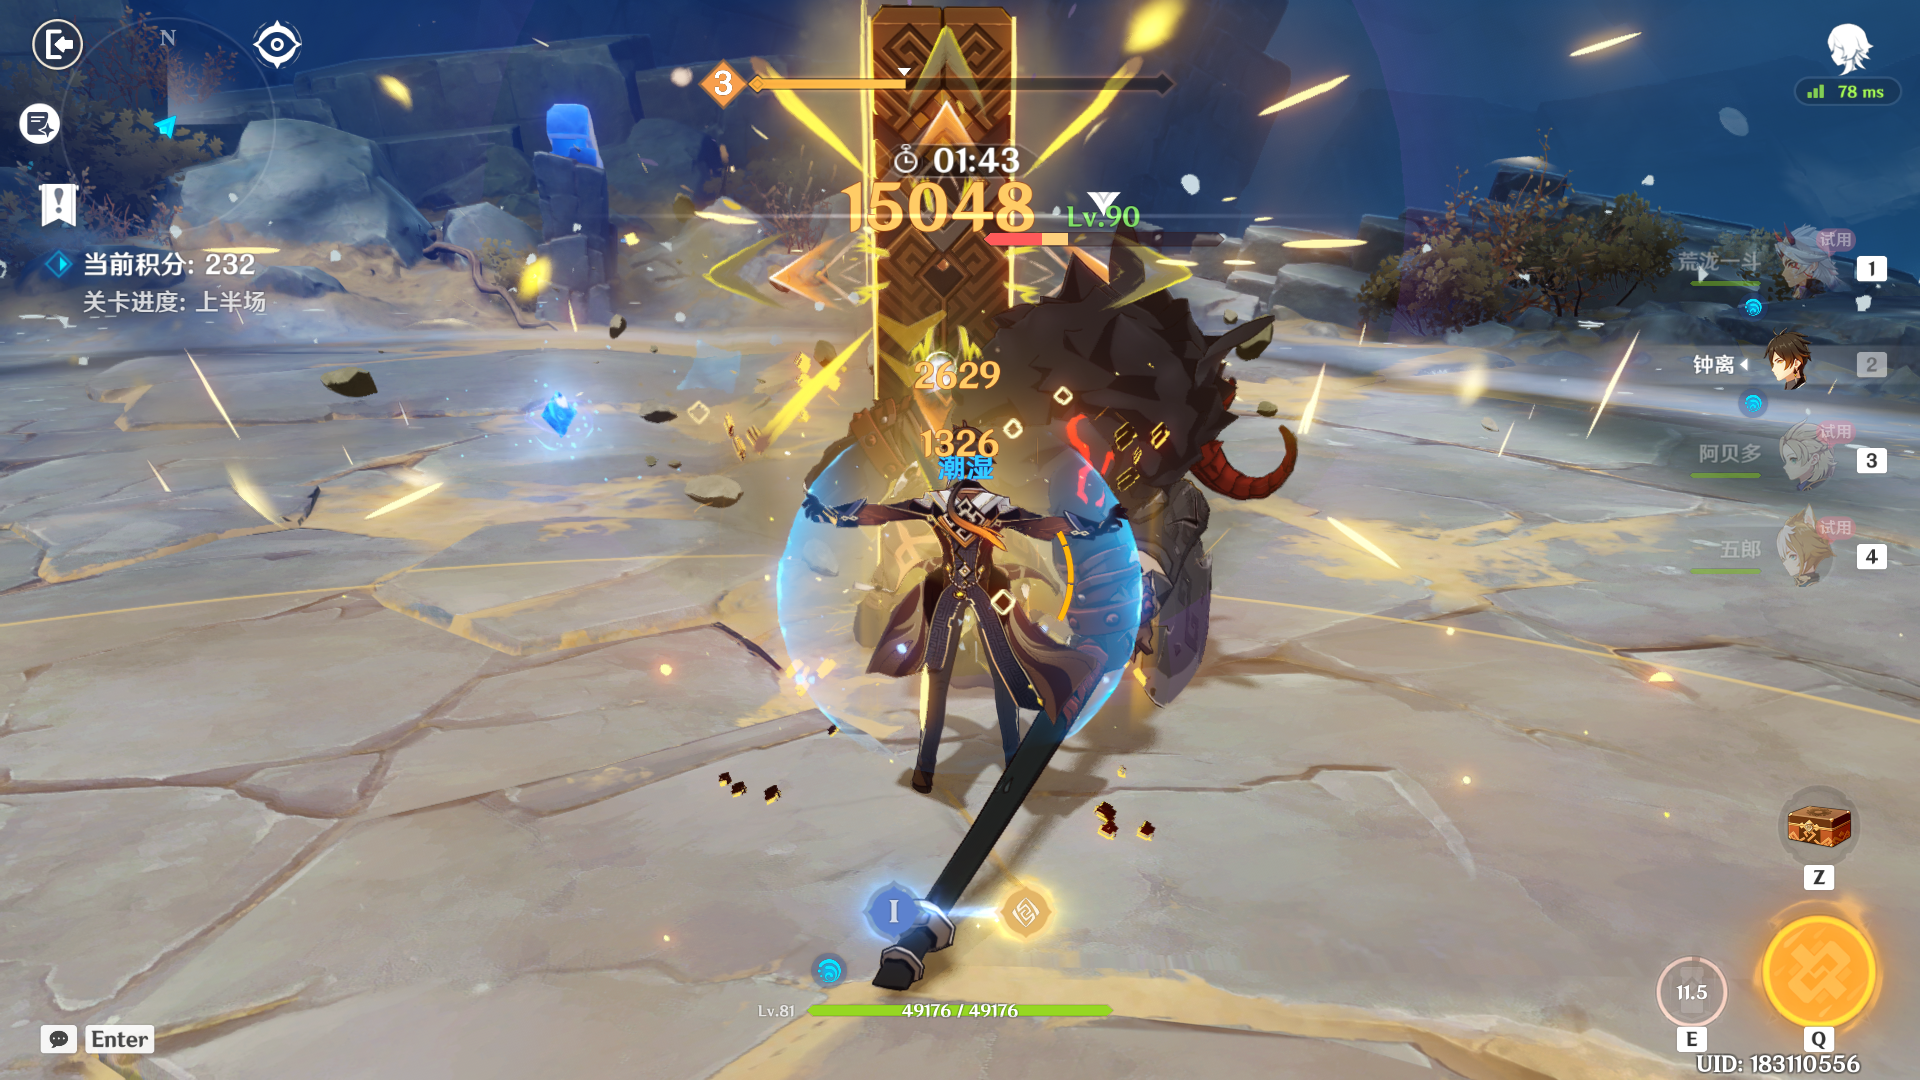bighili: (880, 214, 1305, 705)
character: (767, 378, 1125, 837)
